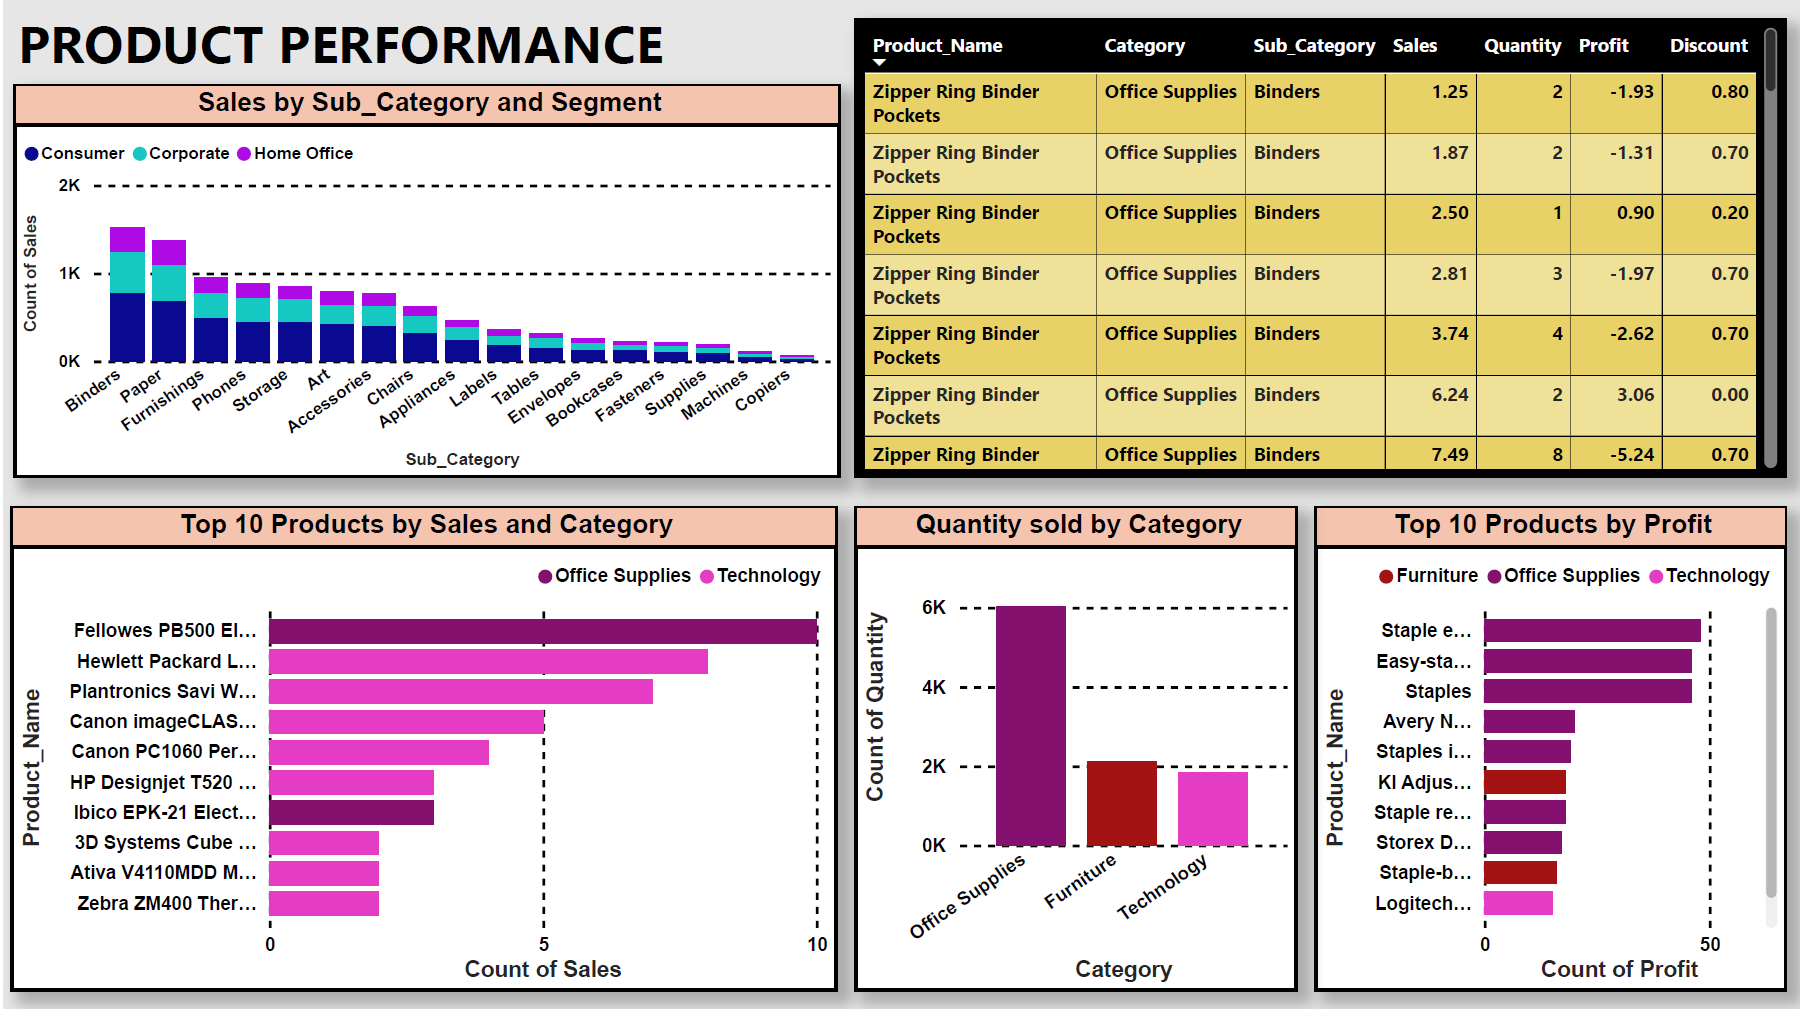

Layout of this report page (visuals, bound fields, positions):
{"tool":"powerbi","page":{"name":"Product Performance","canvas":[1280,720],"ordinal":1},"visuals":[{"type":"barChart","title":"Top 10 Products by Profit","fields":{"Category":["Sales-data.Product_Name"],"Series":["Sales-data.Category"],"Y":["CountNonNull(Sales-data.Profit)"]},"box":[931.7,360,336.7,345],"z":0},{"type":"barChart","title":"Top 10 Products by Sales and Category","fields":{"Category":["Sales-data.Product_Name"],"Series":["Sales-data.Category"],"Y":["CountNonNull(Sales-data.Sales)"]},"box":[5,360,588.3,345],"z":1000},{"type":"columnChart","title":"Sales by Sub_Category and Segment","fields":{"Category":["Sales-data.Sub_Category"],"Y":["CountNonNull(Sales-data.Sales)"],"Series":["Sales-data.Segment"]},"box":[6.7,60,588.3,280],"z":2000},{"type":"columnChart","title":"Quantity sold by Category","fields":{"Category":["Sales-data.Category"],"Y":["CountNonNull(Sales-data.Quantity)"]},"box":[605,360,315,345],"z":3000},{"type":"tableEx","fields":{"Values":["Sales-data.Product_Name","Sales-data.Category","Sales-data.Sub_Category","Sales-data.Sales","Sales-data.Quantity","Sales-data.Profit","Sales-data.Discount"]},"box":[605,13.3,663.3,326.7],"z":4000},{"type":"textbox","box":[5,0,481.7,60],"z":5000}]}

Visuals, with their boxes in screenshot pixels (x1, y1, x2, y2), scaled from the page's 1280x720 canvas onto the 1800x1009 screenshot:
"Top 10 Products by Profit" barChart: {"x1": 1310, "y1": 504, "x2": 1784, "y2": 988}
"Top 10 Products by Sales and Category" barChart: {"x1": 7, "y1": 504, "x2": 834, "y2": 988}
"Sales by Sub_Category and Segment" columnChart: {"x1": 9, "y1": 84, "x2": 837, "y2": 476}
"Quantity sold by Category" columnChart: {"x1": 851, "y1": 504, "x2": 1294, "y2": 988}
tableEx - Sales-data.Product_Name x Sales-data.Category: {"x1": 851, "y1": 19, "x2": 1784, "y2": 476}
textbox: {"x1": 7, "y1": 0, "x2": 684, "y2": 84}
